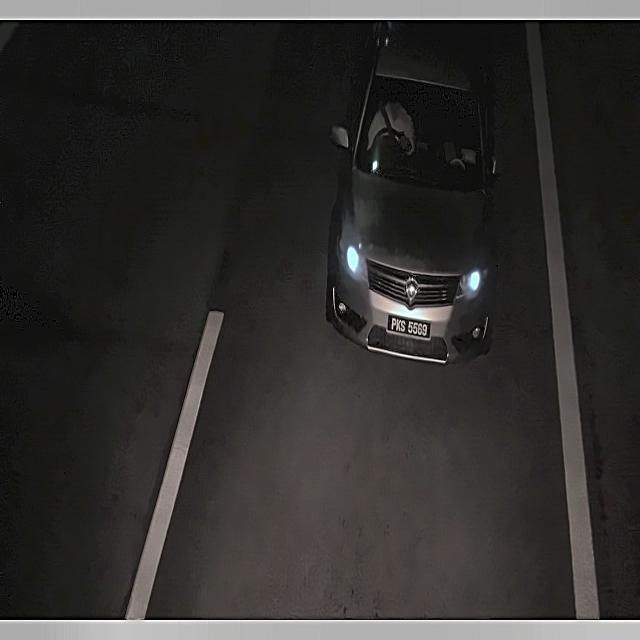car: (386, 313, 434, 342)
